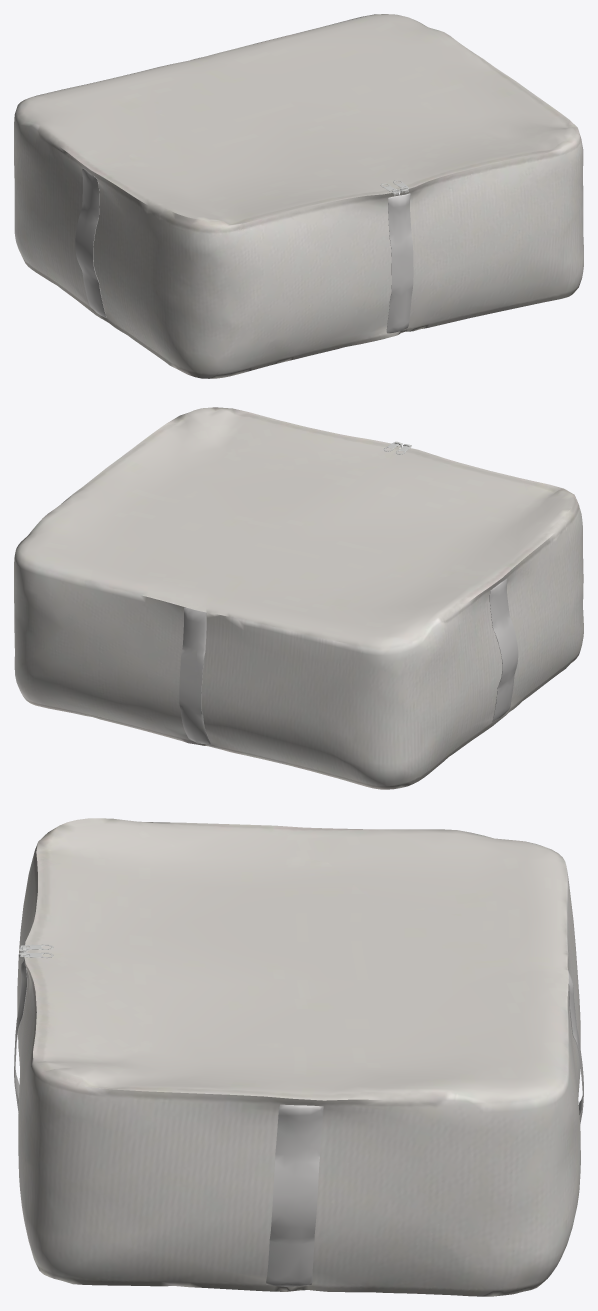
File: 10 - HEMMAFIXARE - 收納盒, 布 條紋白色灰色, 44x51x19 公分 IKEA 線上購物.glb
The picture shows the model from 3 angles, top to bottom: view 1: azimuth 30°, elevation 25°; view 2: azimuth 150°, elevation 25°; view 3: azimuth 270°, elevation 25°; orthographic projection. The views are drawn at different scales.
Parts seen in each view (by area): view 1: id:1c2f270d-ee7a-4ea8-9431-658c[box]<otherprop>; view 2: id:1c2f270d-ee7a-4ea8-9431-658c[box]<otherprop>; view 3: id:1c2f270d-ee7a-4ea8-9431-658c[box]<otherprop>.
Boxes of the visible parts, x1,y1,x2,y2 form: id:1c2f270d-ee7a-4ea8-9431-658c[box]<otherprop>: [14, 14, 583, 378]; id:1c2f270d-ee7a-4ea8-9431-658c[box]<otherprop>: [14, 407, 583, 789]; id:1c2f270d-ee7a-4ea8-9431-658c[box]<otherprop>: [14, 818, 583, 1296].
Bounding box in the file's own units: 0.5101 × 0.19 × 0.4401.
Materials: 1 (1 with a texture image).
